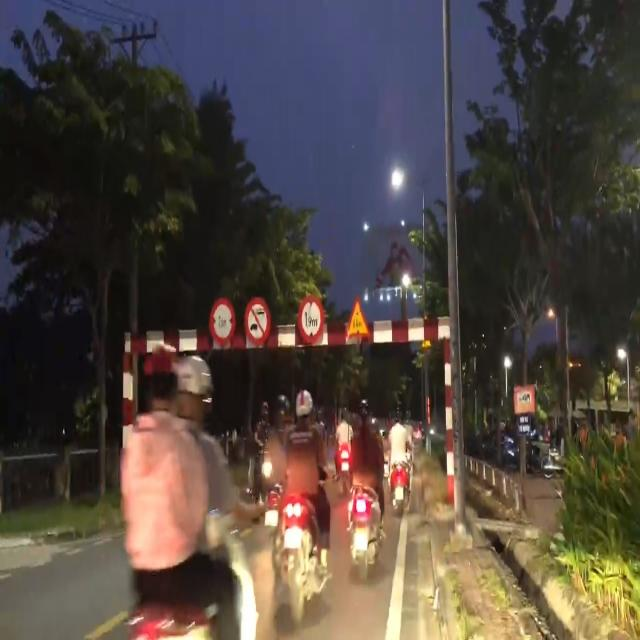Bien bao cam xe oto khach va xe oto tai: (244, 296, 272, 346)
Bien bao chieu cao tinh khong thuc te: (342, 293, 371, 342)
Bien bao han che chieu cao: (298, 292, 322, 346)
